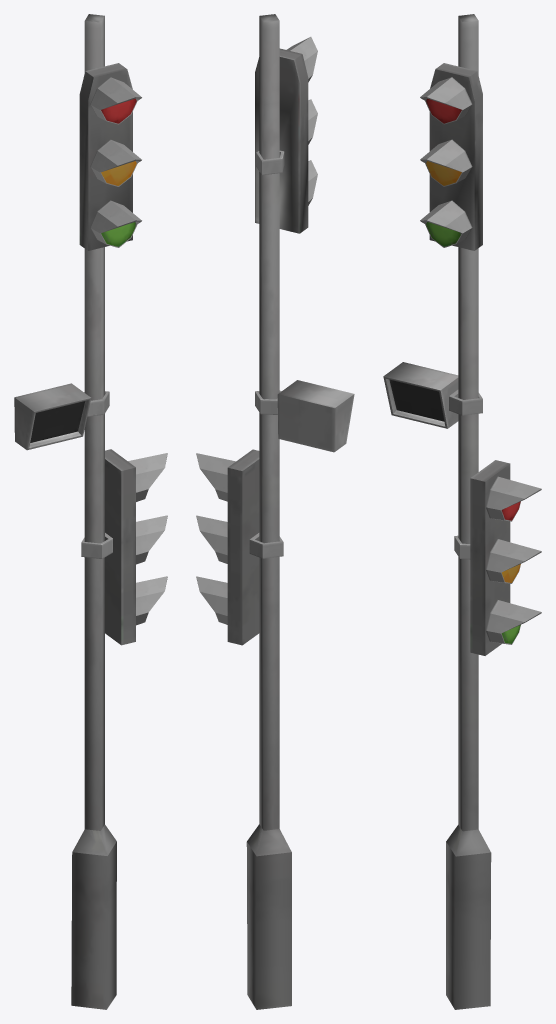
Rendered from Traffic_Lights.fbx.
The picture shows the model from 3 angles, left to right: view 1: azimuth 30°, elevation 25°; view 2: azimuth 150°, elevation 25°; view 3: azimuth 330°, elevation 25°; orthographic projection.
Visible parts, largest first — view 1: SM_Traffic_Lights; view 2: SM_Traffic_Lights; view 3: SM_Traffic_Lights.
Boxes of the visible parts, x1=… form: SM_Traffic_Lights: x1=14, y1=14, x2=167, y2=1009; SM_Traffic_Lights: x1=196, y1=14, x2=354, y2=1009; SM_Traffic_Lights: x1=383, y1=14, x2=541, y2=1009.
Bounding box in the file's own units: 0.6325 × 4.07 × 0.4103.
